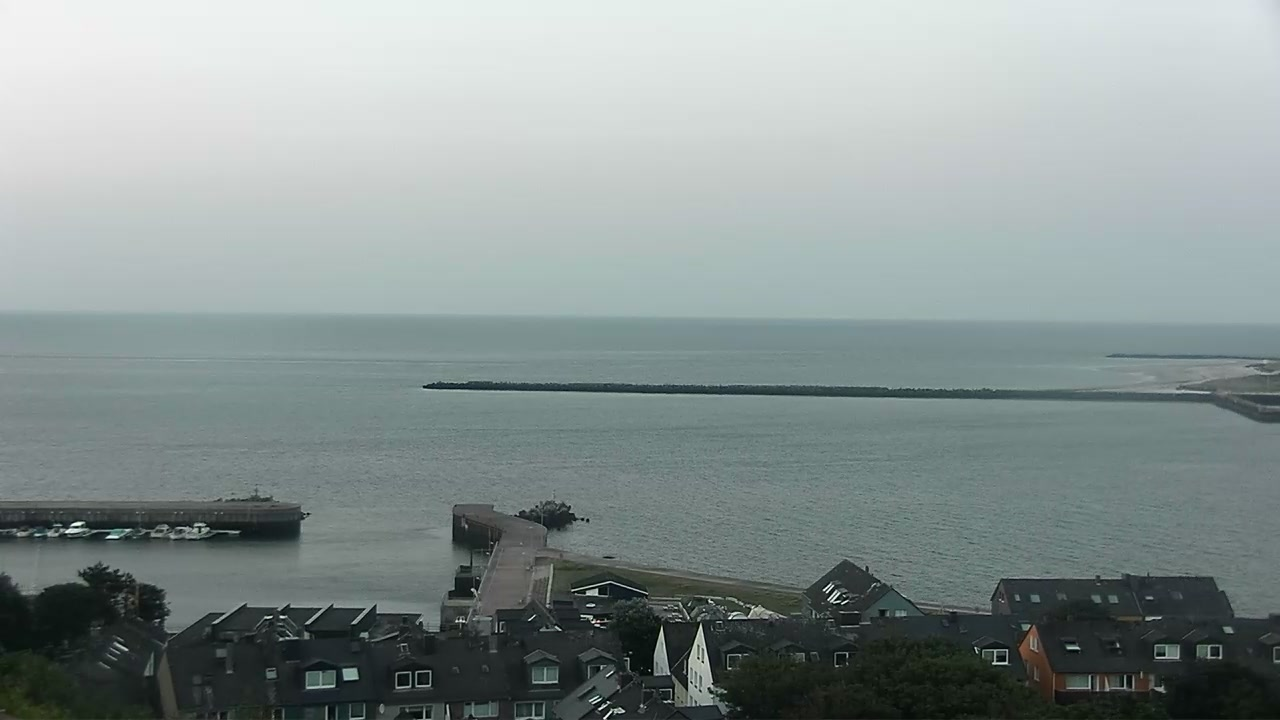sea: (205, 482, 311, 521), (62, 520, 92, 538), (186, 522, 210, 540), (103, 526, 133, 540), (148, 522, 173, 538), (167, 523, 191, 539), (44, 522, 65, 537), (13, 524, 34, 537), (129, 524, 147, 538), (33, 524, 49, 538), (1, 527, 17, 535)
